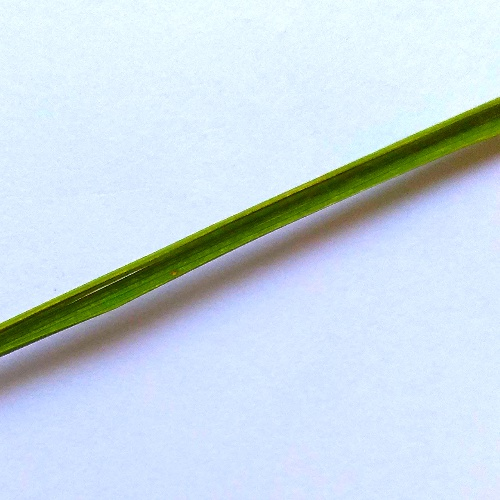Busuk Leher: (167, 266, 184, 280)
